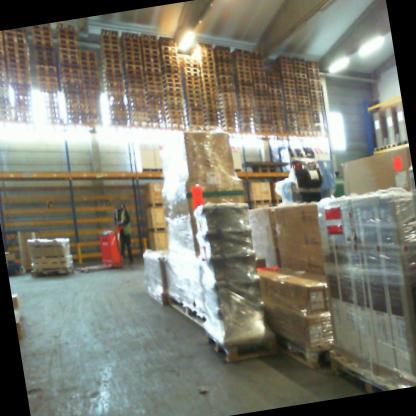pallet: (198, 306, 278, 366), (326, 339, 390, 397), (267, 323, 329, 375), (165, 285, 207, 334), (27, 258, 73, 280), (229, 46, 264, 69), (143, 278, 168, 309), (4, 47, 28, 63), (5, 53, 28, 69), (4, 41, 27, 57), (3, 32, 27, 47), (2, 27, 25, 42), (6, 64, 30, 78), (31, 30, 52, 46), (4, 37, 26, 52), (30, 25, 52, 40), (7, 69, 30, 83), (33, 41, 54, 56), (32, 35, 53, 50), (6, 59, 28, 73), (37, 77, 59, 91), (34, 56, 56, 70), (118, 33, 140, 47), (35, 61, 56, 75), (62, 78, 83, 92), (60, 64, 81, 78), (177, 54, 198, 68), (34, 52, 56, 65), (121, 61, 143, 74), (59, 50, 79, 64), (58, 44, 78, 58), (57, 39, 77, 53), (57, 34, 77, 48), (56, 29, 76, 43), (181, 72, 201, 86), (37, 72, 58, 85), (36, 67, 57, 80), (60, 69, 81, 82), (120, 52, 141, 65), (97, 26, 118, 39), (119, 47, 140, 60), (126, 93, 147, 106), (56, 24, 75, 38), (252, 166, 276, 177), (251, 162, 277, 172), (59, 54, 79, 67), (81, 80, 101, 93), (80, 71, 100, 84), (79, 66, 99, 79), (158, 42, 178, 55), (34, 47, 55, 59), (61, 74, 82, 86), (123, 71, 144, 83), (122, 66, 143, 78), (121, 57, 142, 69), (120, 44, 141, 56), (119, 39, 140, 51), (165, 120, 186, 132), (165, 115, 186, 127), (178, 60, 199, 72), (60, 59, 79, 72), (79, 61, 98, 74), (77, 47, 96, 60), (55, 19, 74, 32), (181, 76, 200, 89), (128, 102, 147, 115), (77, 52, 97, 64), (125, 85, 145, 97), (124, 80, 144, 92), (124, 75, 144, 87), (144, 82, 164, 94), (141, 64, 161, 76), (139, 49, 159, 61), (137, 31, 157, 43), (165, 111, 185, 123), (164, 107, 184, 119), (163, 98, 183, 110), (157, 47, 177, 59), (156, 34, 176, 46), (127, 98, 147, 110), (105, 73, 123, 86), (103, 54, 121, 67), (101, 40, 119, 53), (183, 85, 201, 98), (30, 23, 51, 34), (179, 68, 200, 79), (81, 76, 100, 88), (78, 57, 97, 69), (145, 87, 164, 99), (144, 77, 163, 89), (143, 73, 162, 85), (141, 59, 160, 71), (141, 55, 160, 67), (99, 31, 118, 43), (140, 46, 159, 58), (138, 36, 157, 48), (164, 102, 183, 114), (163, 93, 182, 105), (163, 88, 182, 100), (182, 81, 201, 93), (161, 70, 180, 82), (160, 65, 179, 77), (159, 60, 178, 72), (159, 56, 178, 68), (157, 39, 177, 50), (179, 65, 199, 76), (230, 59, 250, 70), (230, 55, 250, 66), (107, 87, 125, 99), (106, 77, 124, 89), (103, 59, 121, 71), (100, 36, 118, 48), (163, 83, 181, 95), (185, 99, 203, 111), (198, 61, 216, 73), (143, 69, 162, 80), (120, 30, 139, 41), (139, 41, 158, 52), (201, 96, 220, 107), (200, 88, 219, 99), (199, 83, 218, 94), (162, 79, 181, 90), (162, 75, 181, 86), (158, 52, 177, 63), (216, 81, 235, 92), (236, 95, 255, 106), (234, 83, 253, 94), (234, 79, 253, 90), (105, 69, 122, 81), (188, 116, 205, 128), (198, 57, 215, 69), (106, 83, 124, 94), (104, 65, 122, 76), (102, 50, 120, 61), (102, 46, 120, 57), (184, 91, 202, 102), (201, 92, 219, 103), (199, 75, 217, 86), (218, 90, 236, 101), (217, 85, 235, 96), (236, 91, 254, 102), (214, 64, 232, 75), (187, 103, 203, 115), (233, 75, 252, 85), (231, 64, 250, 74), (230, 51, 249, 61), (254, 126, 273, 136), (187, 108, 204, 119), (185, 95, 202, 106), (199, 66, 216, 77), (199, 80, 217, 90), (216, 77, 234, 87), (215, 73, 233, 83), (215, 69, 233, 79), (237, 100, 255, 110), (233, 71, 251, 81), (213, 52, 231, 62), (129, 109, 147, 119), (188, 112, 204, 123), (232, 68, 251, 77), (199, 71, 216, 81), (215, 60, 232, 70), (213, 48, 230, 58), (212, 43, 229, 53), (200, 53, 215, 64), (199, 49, 214, 60), (199, 44, 214, 55), (219, 95, 237, 104), (235, 88, 253, 97), (254, 122, 272, 131), (198, 40, 212, 51), (292, 62, 306, 73), (214, 56, 231, 65), (254, 110, 271, 119), (251, 68, 266, 78), (0, 110, 12, 122), (253, 119, 271, 127), (266, 78, 280, 88), (254, 115, 271, 123), (253, 85, 268, 94), (252, 81, 267, 90), (252, 77, 267, 86), (252, 73, 267, 82), (255, 106, 270, 115), (0, 105, 12, 116), (0, 99, 11, 111), (254, 89, 268, 98), (251, 64, 265, 73), (249, 53, 263, 62), (248, 49, 262, 58), (270, 110, 284, 119), (269, 102, 283, 111), (295, 86, 309, 95), (294, 82, 308, 91), (308, 84, 322, 93), (306, 69, 320, 78), (280, 65, 294, 74), (292, 59, 306, 68), (222, 99, 237, 107), (254, 103, 269, 111), (273, 126, 286, 135), (272, 118, 285, 127), (270, 106, 283, 115), (285, 103, 298, 112), (282, 81, 295, 90), (281, 77, 294, 86), (269, 98, 282, 107), (268, 86, 281, 95), (266, 74, 279, 83), (297, 97, 310, 106), (296, 90, 309, 99), (293, 66, 306, 75), (307, 73, 320, 82), (306, 65, 319, 74), (280, 69, 293, 78), (279, 61, 292, 70), (292, 55, 305, 64), (305, 58, 318, 67), (255, 94, 269, 102), (250, 57, 264, 65), (255, 98, 269, 106), (268, 95, 282, 103), (268, 91, 282, 99), (267, 83, 281, 91), (265, 71, 279, 79), (296, 94, 310, 102), (294, 78, 308, 86), (293, 71, 307, 79), (284, 92, 296, 101), (273, 123, 286, 131), (271, 115, 284, 123), (285, 100, 298, 108), (284, 97, 297, 105), (283, 89, 296, 97), (298, 106, 311, 114), (294, 75, 307, 83), (309, 92, 322, 100), (281, 73, 294, 81), (279, 57, 292, 65), (0, 94, 9, 105), (283, 85, 295, 93), (299, 109, 311, 117), (298, 102, 310, 110), (311, 103, 323, 111), (311, 99, 323, 107), (309, 88, 321, 96), (308, 77, 320, 85), (306, 62, 318, 70), (0, 89, 9, 99), (385, 142, 397, 149), (0, 78, 7, 90), (0, 72, 7, 84), (310, 96, 322, 103), (308, 81, 320, 88), (0, 84, 8, 94), (0, 66, 6, 79), (374, 145, 384, 152)
pallet_truck: (68, 218, 131, 275)
